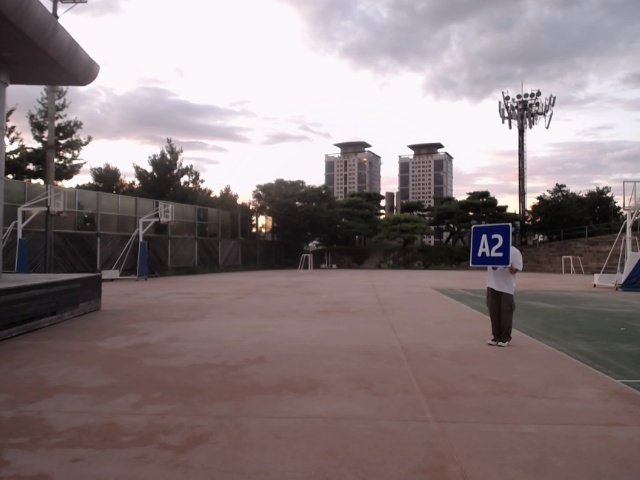delivery_a2: (470, 224, 511, 266)
